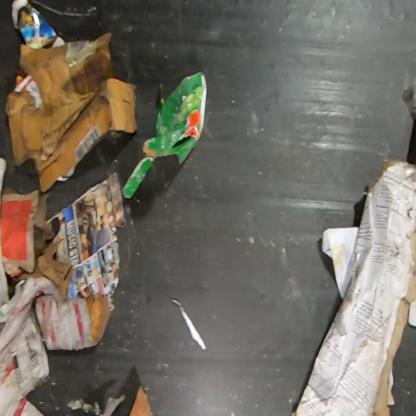cardboard: (287, 157, 415, 415), (4, 31, 138, 193), (0, 277, 114, 415), (122, 71, 208, 199), (0, 187, 48, 278), (12, 237, 74, 301), (128, 382, 158, 415)
soft_plastic: (11, 0, 57, 49), (401, 79, 415, 125)
